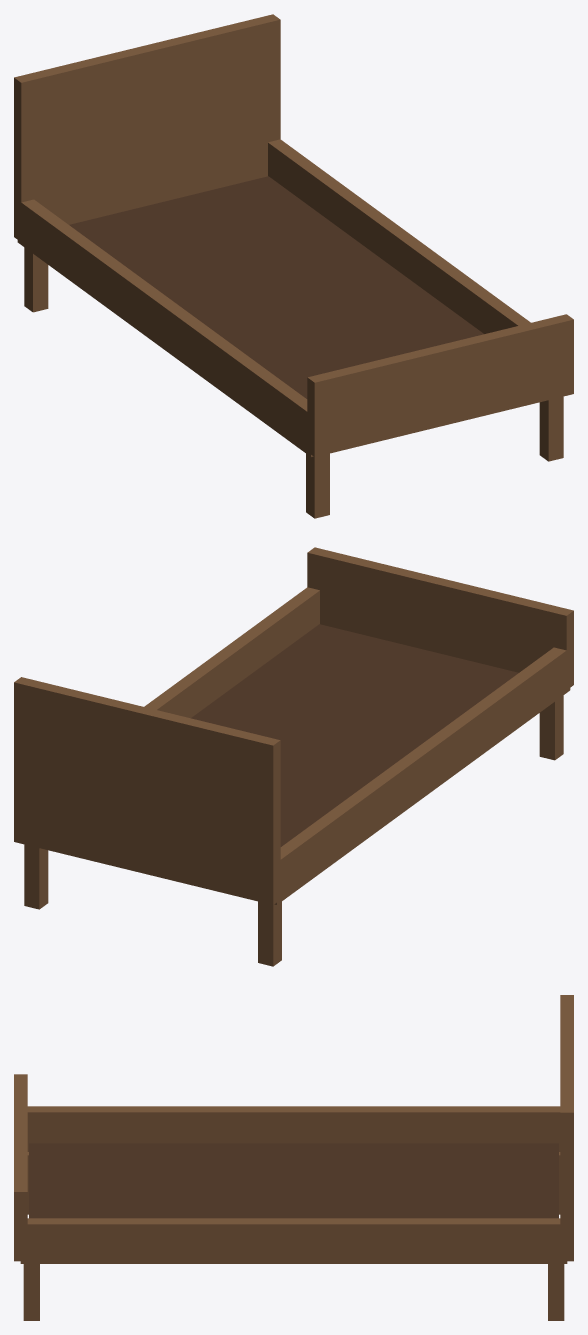
File: SM_P0_Bed_Frame_A.obj
The picture shows the model from 3 angles, top to bottom: view 1: azimuth 30°, elevation 25°; view 2: azimuth 150°, elevation 25°; view 3: azimuth 270°, elevation 25°; orthographic projection. The views are drawn at different scales.
Parts seen in each view (by area): view 1: slat_deck, headboard, footboard, rail_l, rail_r, leg_3, leg_2, leg_0; view 2: headboard, slat_deck, footboard, rail_l, rail_r, leg_1, leg_0, leg_2; view 3: slat_deck, rail_r, rail_l, headboard, footboard, leg_1, leg_3.
Part boxes in pixels (x1,y1,x2,y2): slat_deck: (69, 176, 483, 398); headboard: (14, 14, 280, 239); footboard: (307, 314, 573, 456); rail_l: (17, 199, 313, 456); rail_r: (268, 139, 530, 333); leg_3: (539, 396, 563, 461); leg_2: (306, 453, 329, 518); leg_0: (24, 247, 48, 312); headboard: (14, 677, 280, 904); slat_deck: (191, 624, 518, 846); footboard: (307, 547, 573, 688); rail_l: (274, 647, 570, 904); rail_r: (144, 587, 319, 718); leg_1: (24, 844, 48, 909); leg_0: (258, 901, 281, 966); leg_2: (539, 695, 563, 760); slat_deck: (29, 1143, 558, 1218); rail_r: (20, 1218, 567, 1263); rail_l: (27, 1106, 560, 1151); headboard: (560, 995, 573, 1261); footboard: (14, 1074, 27, 1261); leg_1: (548, 1264, 564, 1320); leg_3: (23, 1264, 39, 1320).
Bounding box in the file's own units: 1.02 × 0.85 × 2.05.
